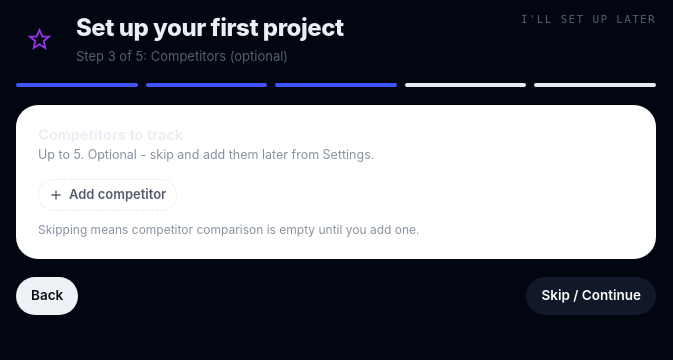
Scenario: OnboardingWizard › flags a duplicate competitor instead of dropping it
This screenshot has width=673, height=360.
Click the button "Add competitor" at (108, 194), box [38, 178, 177, 210]
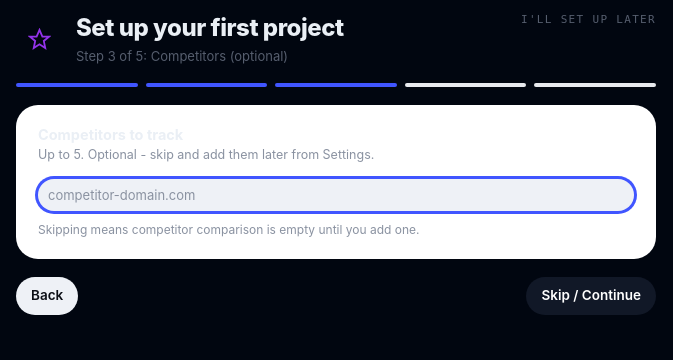
Type "rival-one.com" into the field with placeholder "competitor-domain.com" at (336, 194), box [38, 178, 634, 210]
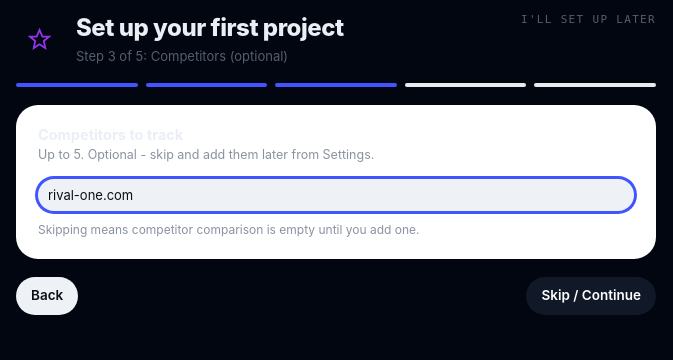
Press Enter in the field with placeholder "competitor-domain.com", box [38, 178, 634, 210]
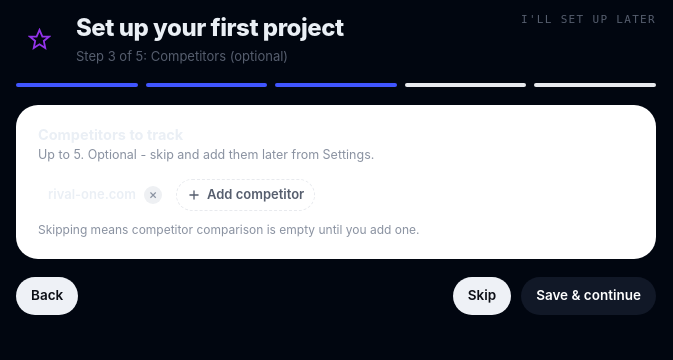
Click the button "Add competitor" at (246, 194), box [176, 178, 315, 210]
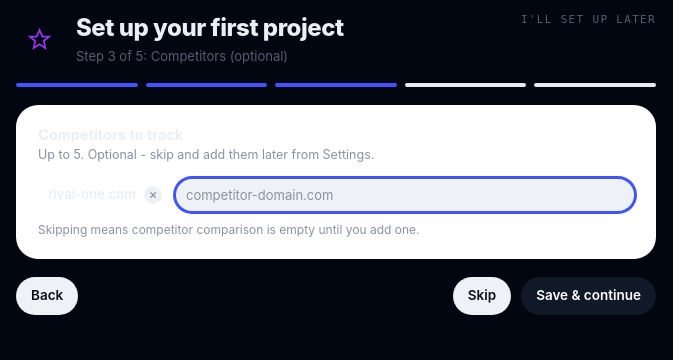
Type "https://www.rival-one.com/" into the field with placeholder "competitor-domain.com" at (405, 194), box [176, 178, 634, 210]
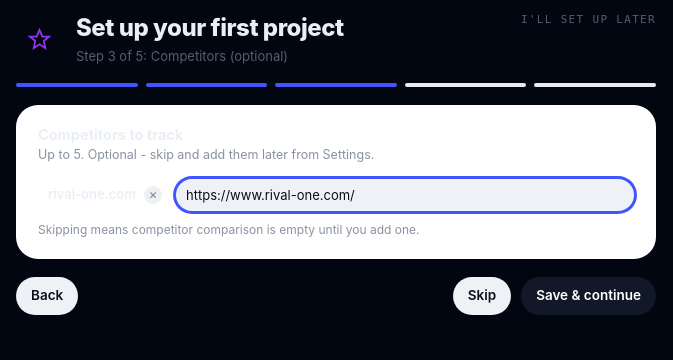
Press Enter in the field with placeholder "competitor-domain.com", box [176, 178, 634, 210]
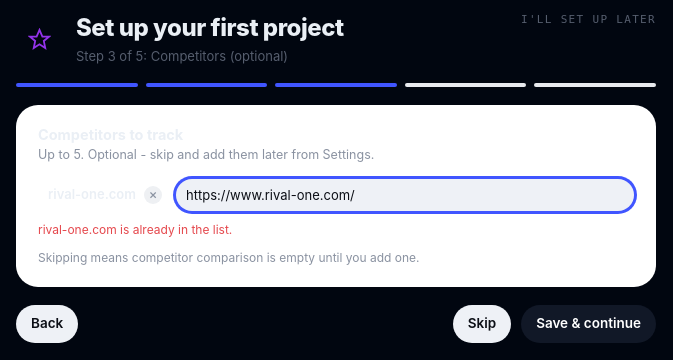
expect the text "rival-one.com" is shown once: met, box [48, 186, 162, 204]
expect the message reads "rival-one.com is already in the list.": met, box [38, 222, 232, 236]
